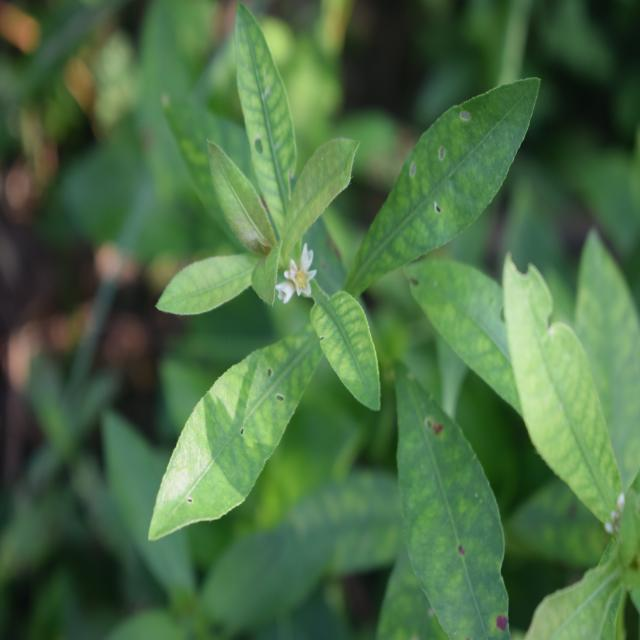Alligatorweed: (143, 38, 528, 566)
